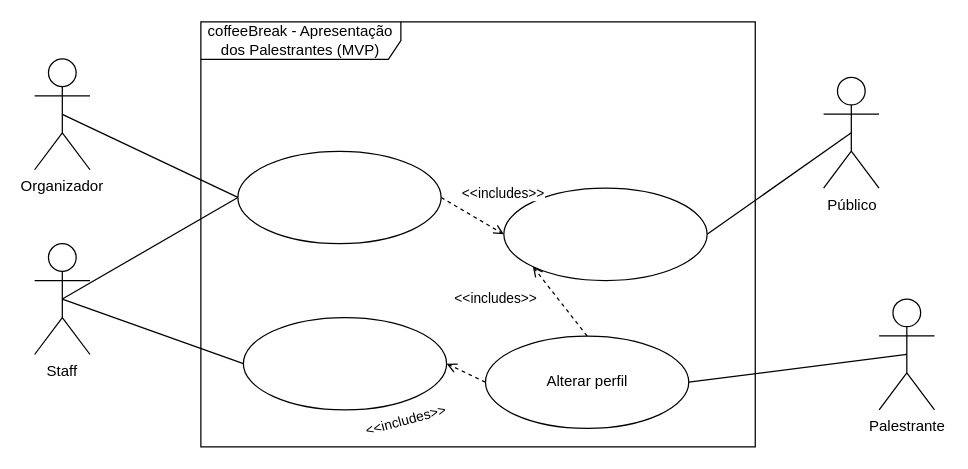
Image size: 968x469. Some labels were removed from this diagram. The centre of each missing label's shape, as x and y in pixels:
Gestão de Palestrantes: point 339,197
Validar Alterações: point 344,363
Ver Info sobre cada palestra: point 605,233
